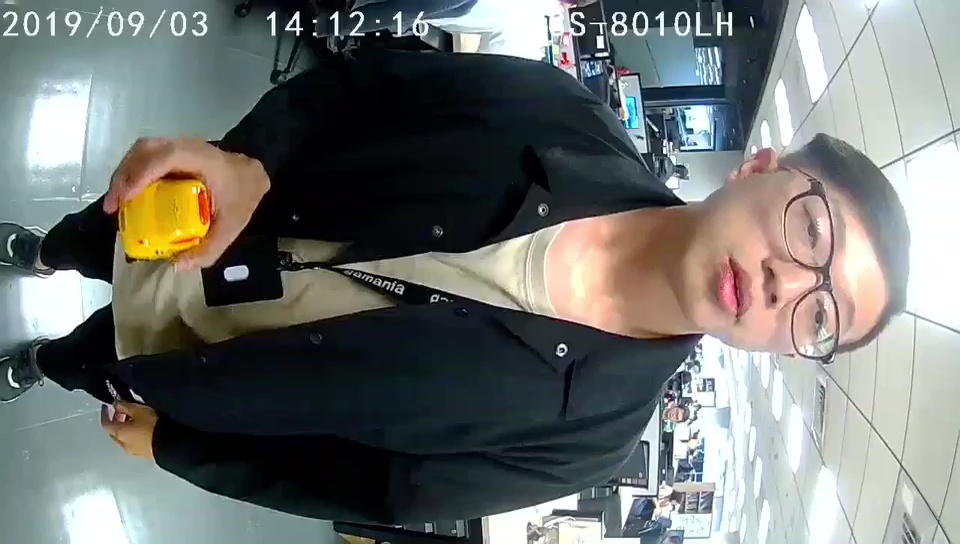car: (124, 177, 211, 256)
